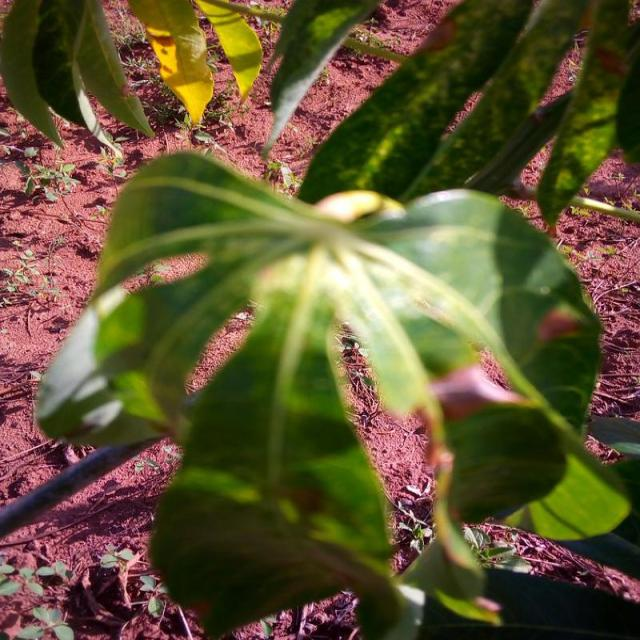cassava leaf: (35, 147, 621, 637)
